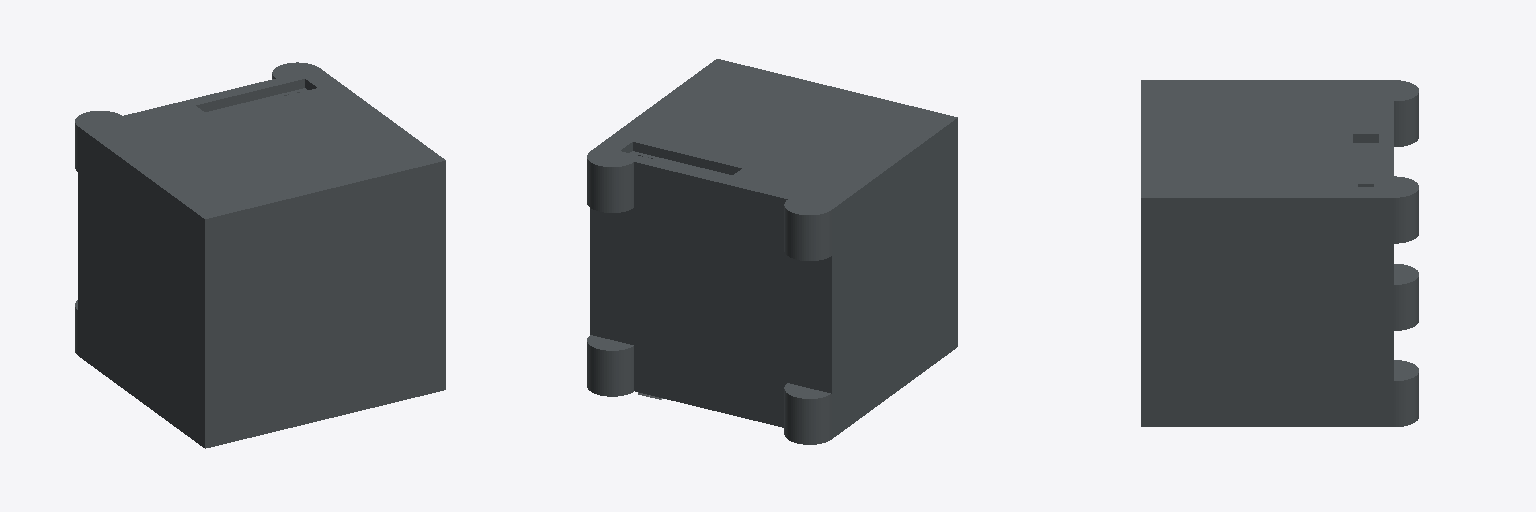
File: tinker.obj
3 views of the same model, side by side, from view 1: azimuth 30°, elevation 25°; view 2: azimuth 150°, elevation 25°; view 3: azimuth 270°, elevation 25° (orthographic).
Visible parts, largest first — view 1: obj_0; view 2: obj_0; view 3: obj_0.
Boxes of the visible parts, x1,y1,x2,y2 form: obj_0: [75, 62, 445, 448]; obj_0: [587, 59, 957, 444]; obj_0: [1141, 80, 1418, 426].
Bounding box in the file's own units: 55 × 51 × 55.